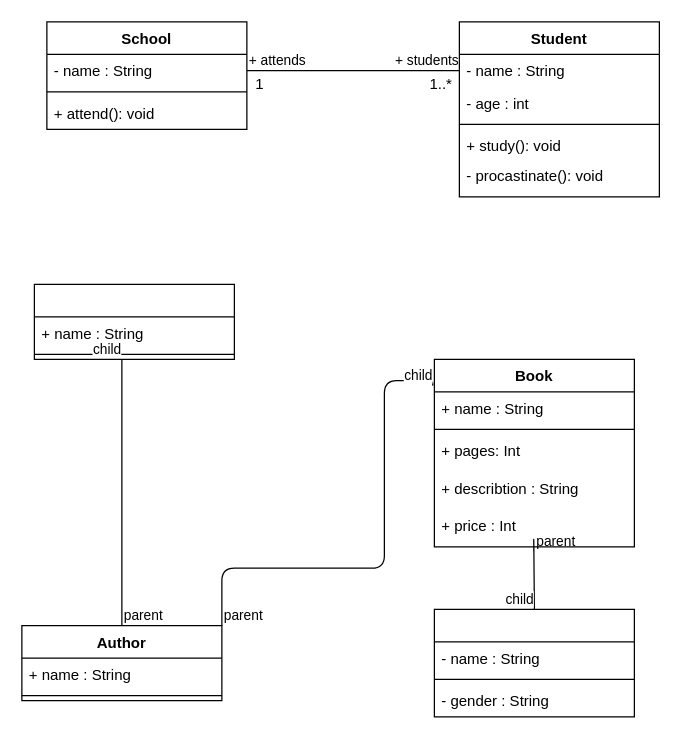
The diagram is 681 pixels wide and 743 high, and some of its shapes have lost their labels. The shapes that lost their labels are listed below. From the top down, each one's box as (x1, y1, x2, y2) in pixels, then its label:
(33, 283, 234, 359): Publisher
(433, 608, 634, 717): Customer
